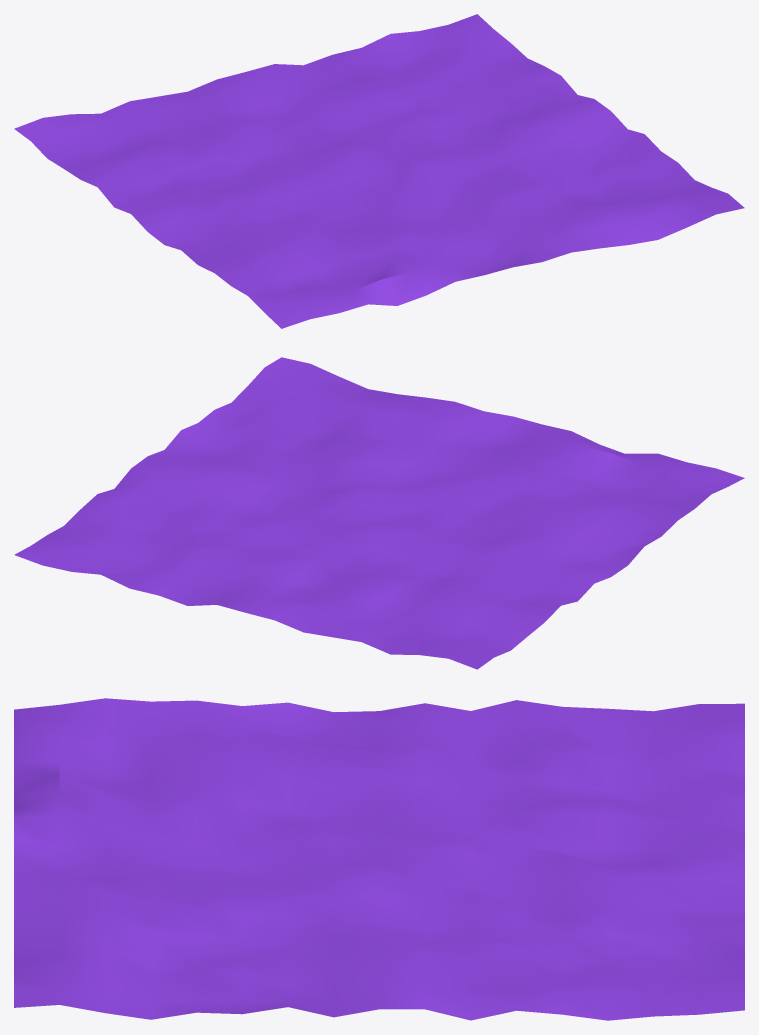
The model's file is DeadZone.fbx.
3 views of the same model, one above another, from view 1: azimuth 30°, elevation 25°; view 2: azimuth 150°, elevation 25°; view 3: azimuth 270°, elevation 25° (orthographic). The views are drawn at different scales.
Parts seen in each view (by area): view 1: Plane.032; view 2: Plane.032; view 3: Plane.032.
Part boxes in pixels (x1,y1,x2,y2): Plane.032: [14, 14, 744, 328]; Plane.032: [14, 357, 744, 669]; Plane.032: [14, 698, 744, 1020].
Size of the model in its own units: 1000 by 34.85 by 1000.
